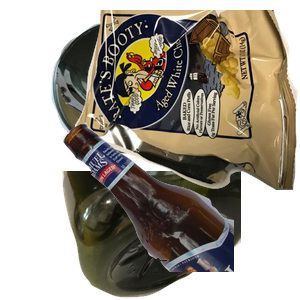glass: (60, 120, 300, 300)
metal: (49, 18, 229, 164)
plastic: (60, 171, 300, 300)
trash: (75, 10, 300, 190)
